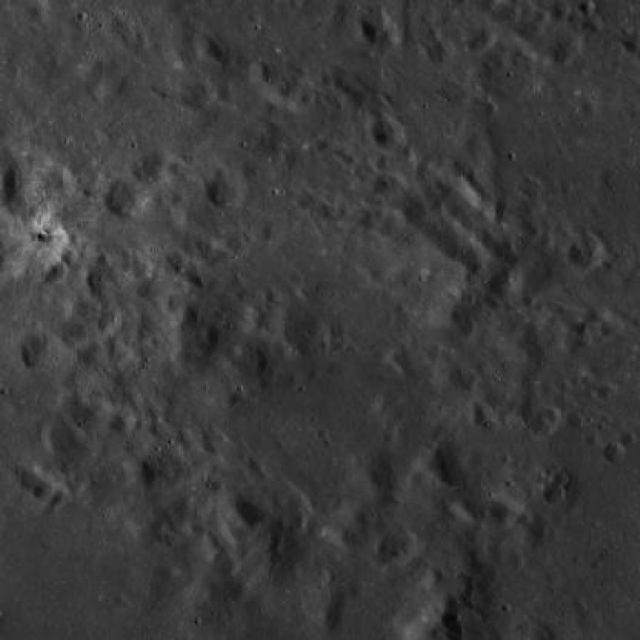crater: (430, 406, 536, 508), (2, 153, 72, 222), (477, 36, 545, 102), (438, 178, 494, 232), (142, 446, 195, 496), (23, 218, 72, 267), (107, 174, 153, 220), (89, 446, 134, 492), (22, 332, 66, 374), (208, 168, 250, 208), (0, 227, 35, 275), (135, 264, 177, 304), (381, 528, 421, 568), (429, 219, 469, 259), (236, 488, 276, 527), (134, 150, 174, 188), (569, 234, 608, 272), (60, 312, 98, 350), (78, 396, 117, 433), (179, 75, 216, 111), (478, 370, 514, 406), (374, 114, 409, 150), (44, 167, 78, 201), (488, 494, 521, 528), (370, 19, 404, 52), (458, 241, 492, 274), (361, 4, 394, 36), (106, 342, 136, 372), (30, 474, 61, 503), (377, 208, 406, 238), (124, 428, 153, 458), (378, 170, 407, 199), (202, 427, 230, 455), (400, 194, 428, 222), (64, 364, 92, 392), (80, 342, 108, 369), (430, 38, 458, 64), (358, 203, 386, 229), (111, 408, 138, 434), (18, 466, 44, 492), (532, 413, 558, 439), (466, 132, 492, 158), (414, 156, 440, 182), (492, 238, 518, 264), (64, 388, 90, 414), (97, 310, 123, 335), (76, 294, 101, 320), (554, 42, 580, 66), (368, 92, 394, 116), (491, 272, 517, 296), (264, 218, 288, 242), (494, 2, 520, 24), (464, 163, 487, 186), (153, 74, 176, 97), (127, 254, 150, 277), (334, 198, 358, 220), (600, 316, 623, 338), (590, 303, 612, 326), (110, 12, 133, 34), (545, 484, 567, 506), (468, 34, 490, 56), (596, 380, 618, 402), (28, 0, 50, 22), (300, 188, 322, 210), (449, 148, 471, 170), (552, 1, 574, 22), (476, 28, 498, 49), (520, 176, 542, 197), (605, 443, 627, 463), (563, 34, 585, 54), (168, 248, 190, 268), (228, 236, 250, 256), (160, 357, 182, 377), (476, 0, 503, 15), (542, 406, 562, 426), (153, 419, 173, 439), (51, 262, 71, 282), (87, 271, 107, 291), (522, 219, 542, 239), (168, 156, 188, 176), (49, 482, 69, 502), (514, 508, 534, 527), (179, 428, 198, 447), (245, 453, 264, 472), (316, 134, 336, 152), (582, 99, 600, 118), (200, 234, 218, 253), (88, 85, 106, 104), (473, 356, 492, 374), (209, 475, 228, 493), (620, 430, 638, 448), (475, 402, 493, 420), (534, 8, 552, 26), (460, 322, 478, 340), (584, 430, 602, 448), (568, 413, 586, 430), (176, 492, 193, 510), (148, 517, 166, 534), (353, 89, 370, 106), (63, 249, 80, 266), (574, 322, 592, 338), (112, 340, 128, 358), (344, 80, 361, 96), (482, 100, 498, 117), (579, 0, 597, 15), (555, 472, 571, 488), (0, 0, 8, 11)
